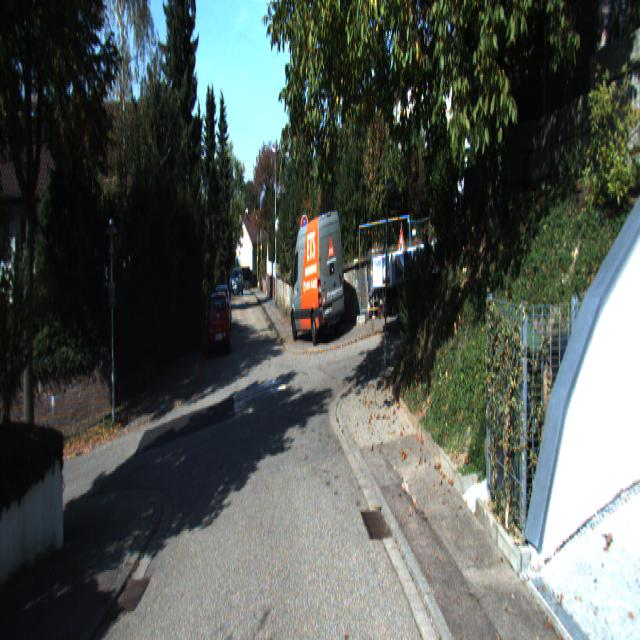Car: (371, 165, 493, 349), (289, 205, 345, 343), (205, 289, 232, 361)
